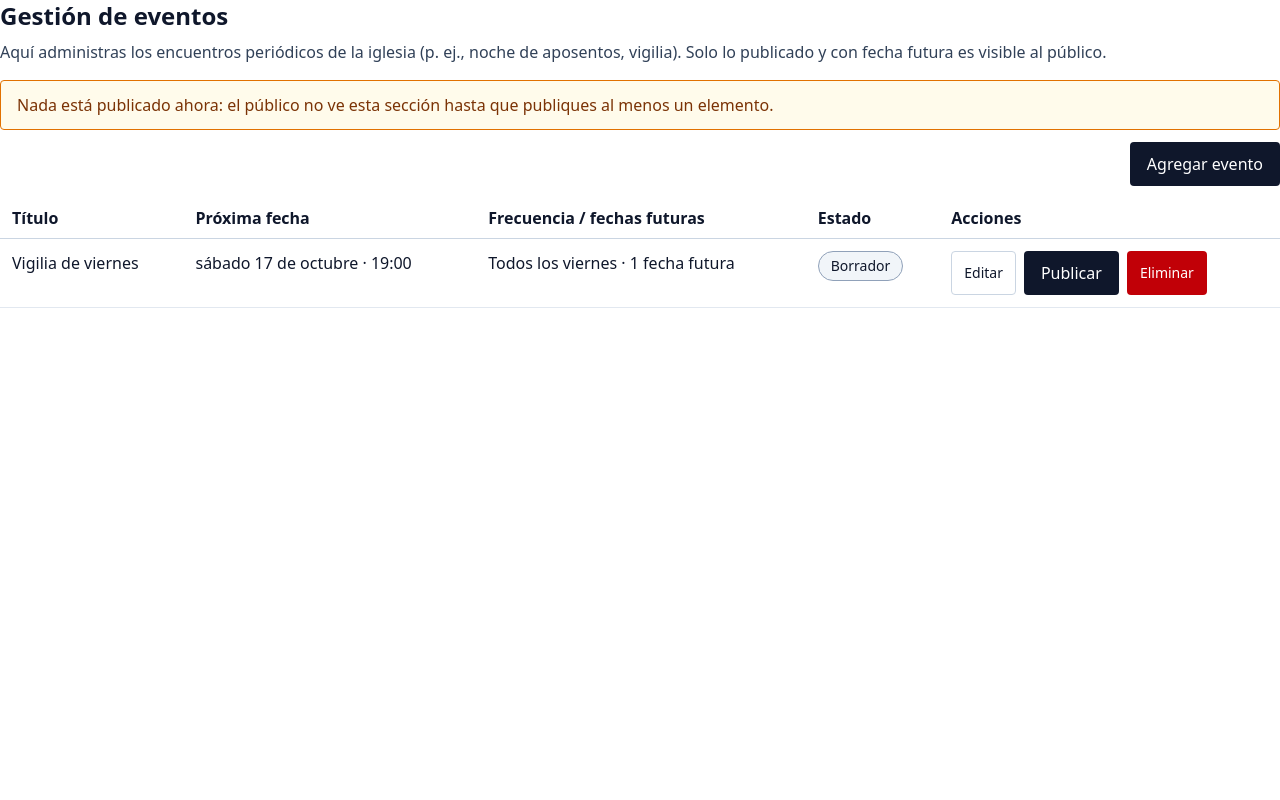
Test: EventsList · publicar, retirar y eliminar (US4) › publicar es una acción directa y retirar pide confirmación (ux.md §5.c)
Click the button "Publicar".
click(1071, 273)  # box x1=1024 y1=251 x2=1119 y2=295
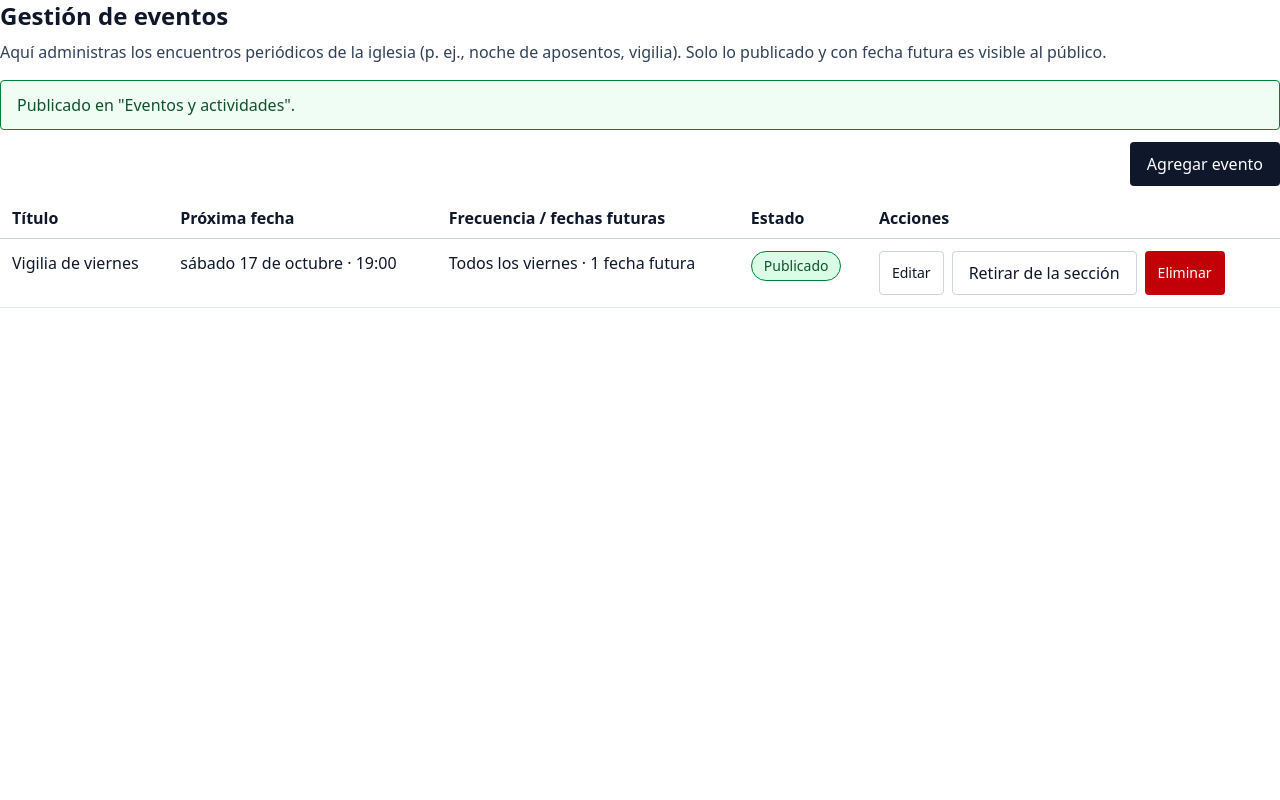
Result: the text "Publicado en \"Eventos y actividades\"." is shown at x1=0 y1=80 x2=1279 y2=130
Click the button "Retirar de la sección".
click(1044, 273)  # box x1=952 y1=251 x2=1137 y2=295
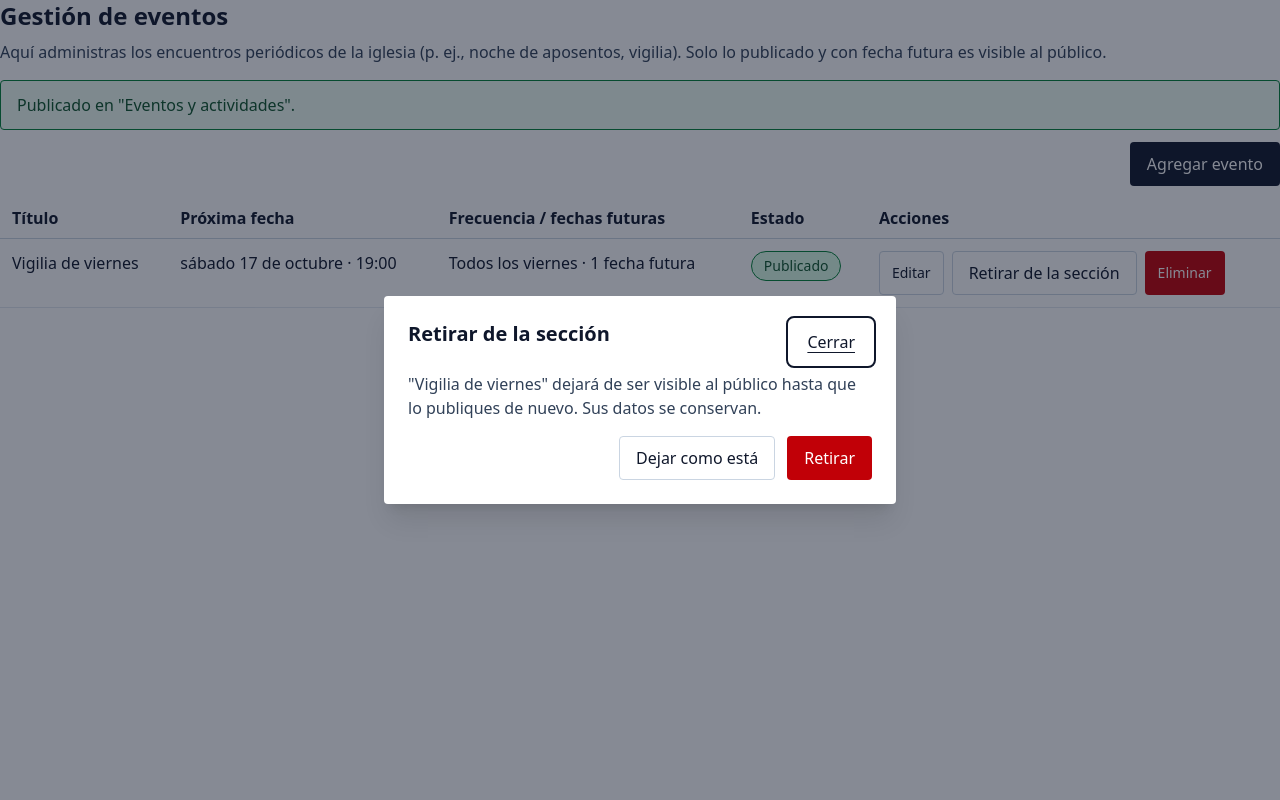
Result: the text "dejará de ser visible al público" is shown at x1=408 y1=373 x2=856 y2=419
Click the button "Retirar".
click(830, 458)  # box x1=787 y1=436 x2=872 y2=480
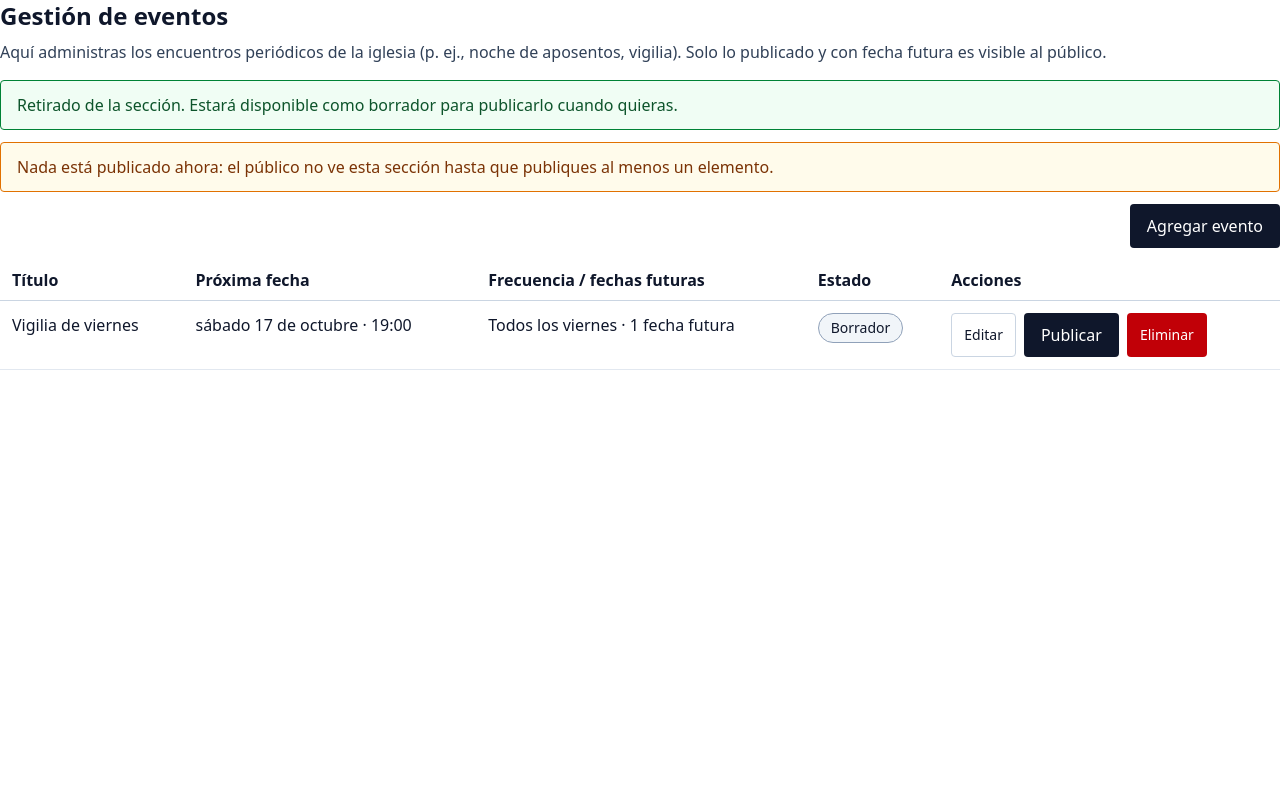
Result: the text "Retirado de la sección" is shown at x1=17 y1=94 x2=678 y2=116
